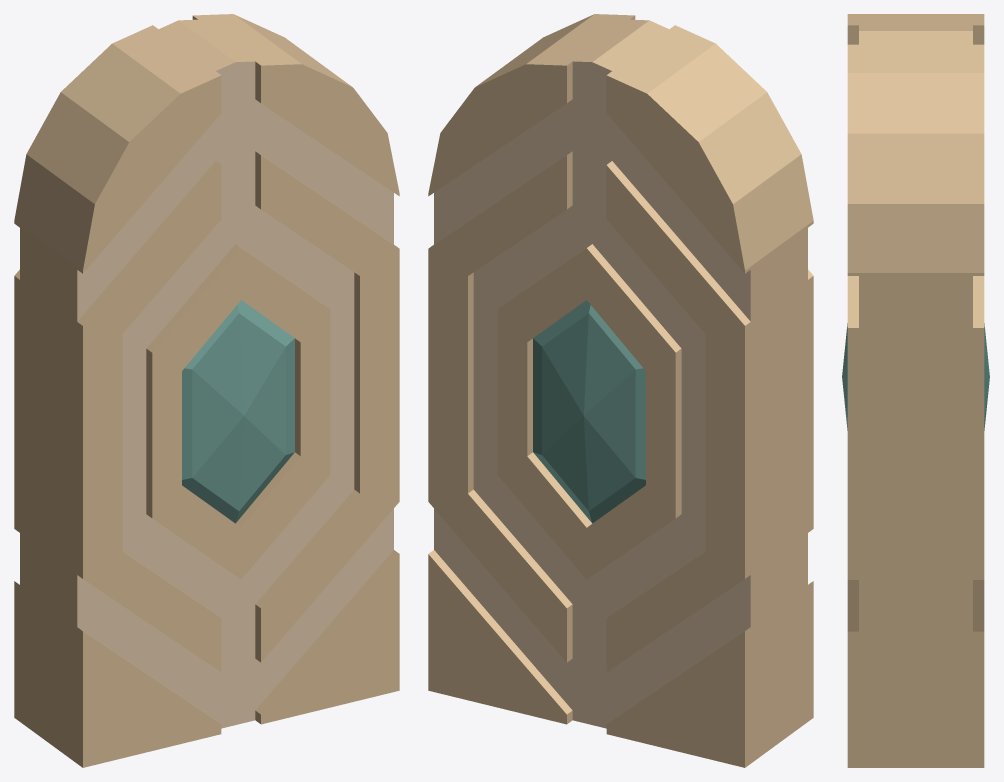
The model's file is temple_Wall_Straight_Door.glb.
3 views of the same model, side by side, from view 1: azimuth 30°, elevation 25°; view 2: azimuth 150°, elevation 25°; view 3: azimuth 270°, elevation 25° (orthographic).
Parts seen in each view (by area): view 1: object1; view 2: object1; view 3: object1.
Part boxes in pixels (x1=…): object1: x1=14, y1=14, x2=399, y2=767; object1: x1=428, y1=14, x2=813, y2=767; object1: x1=842, y1=14, x2=989, y2=767.
Bounding box in the file's own units: 0.8 × 1.6 × 0.325.
